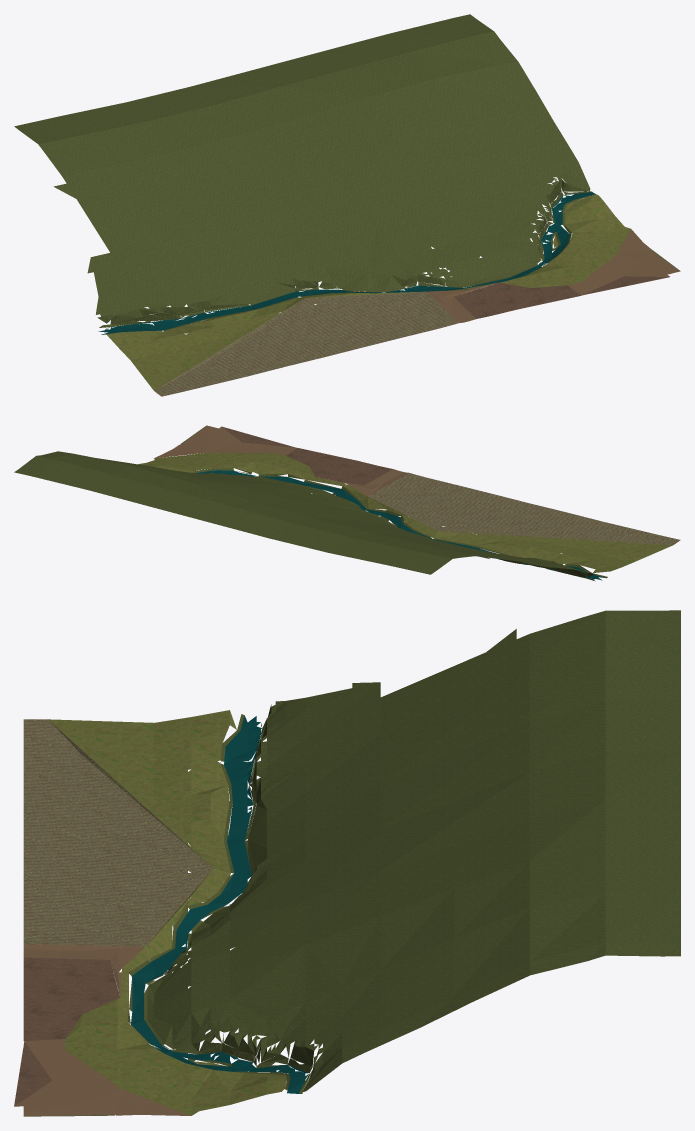
The model's file is Terreno001.fbx.
The picture shows the model from 3 angles, top to bottom: view 1: azimuth 30°, elevation 25°; view 2: azimuth 150°, elevation 25°; view 3: azimuth 270°, elevation 25°; orthographic projection. The views are drawn at different scales.
Parts seen in each view (by area): view 1: Terreno.001; view 2: Terreno.001; view 3: Terreno.001.
Boxes of the visible parts, left/top/right/bottom form: Terreno.001: left=14, top=14, right=680, bottom=396; Terreno.001: left=14, top=425, right=680, bottom=581; Terreno.001: left=14, top=610, right=680, bottom=1116.
Size of the model in its own units: 28678 by 5569 by 20295.
